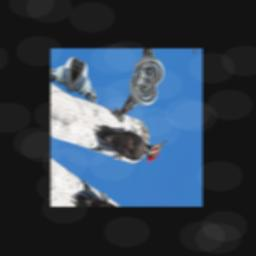Woodpecker: (87, 104, 168, 181)
